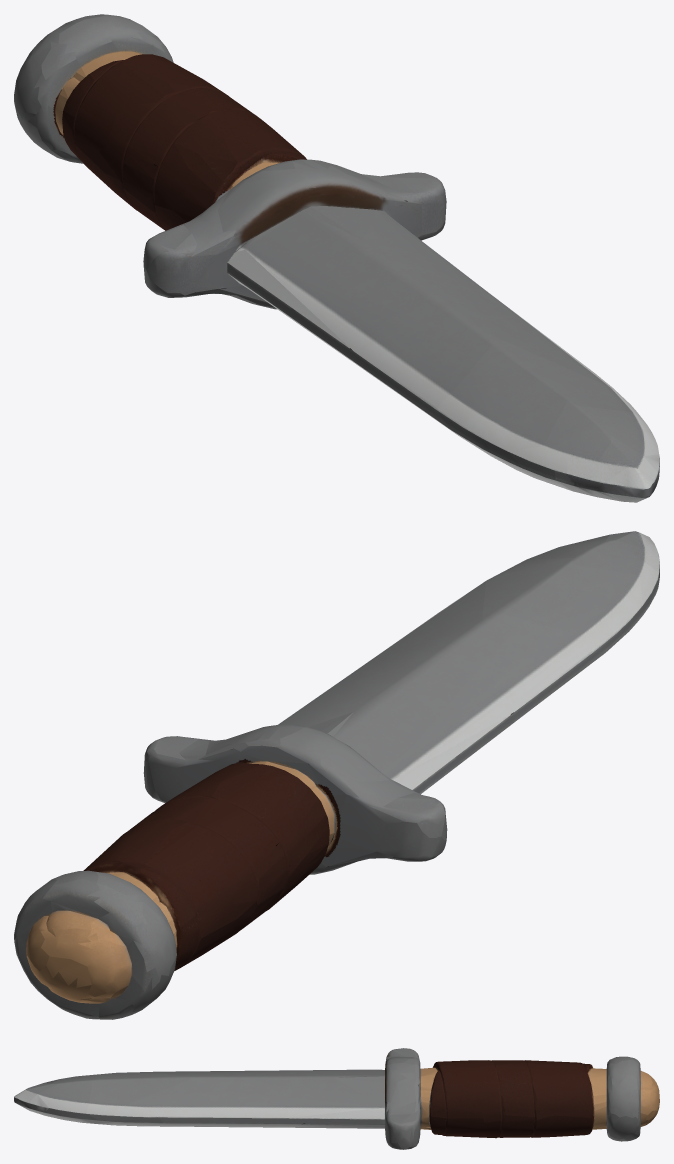
The picture shows the model from 3 angles, top to bottom: view 1: azimuth 30°, elevation 25°; view 2: azimuth 150°, elevation 25°; view 3: azimuth 270°, elevation 25°; orthographic projection. The views are drawn at different scales.
Parts seen in each view (by area): view 1: db_g1; view 2: db_g1; view 3: db_g1.
Boxes of the visible parts, x1,y1,x2,y2 form: db_g1: (14,14,659,502); db_g1: (14,531,659,1019); db_g1: (14,1048,659,1149).
Bounding box in the file's own units: 52.4 × 23.17 × 180.
Materials: 1 (1 with a texture image).
